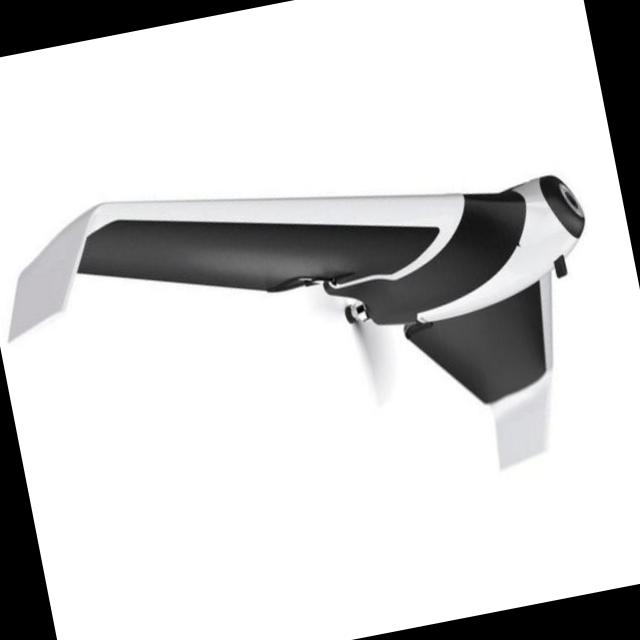UAV: (170, 62, 580, 492)
